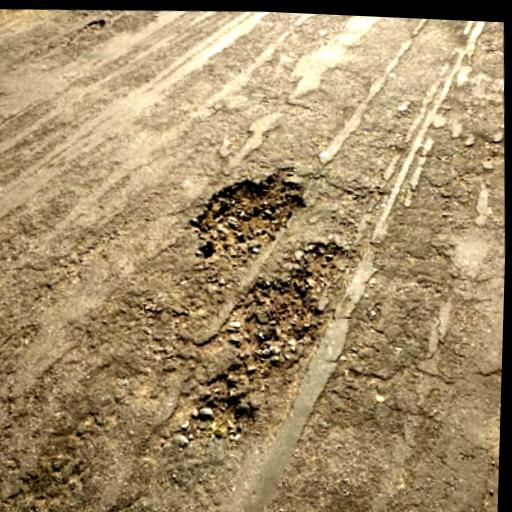pothole: (173, 233, 355, 450), (185, 159, 310, 269)
